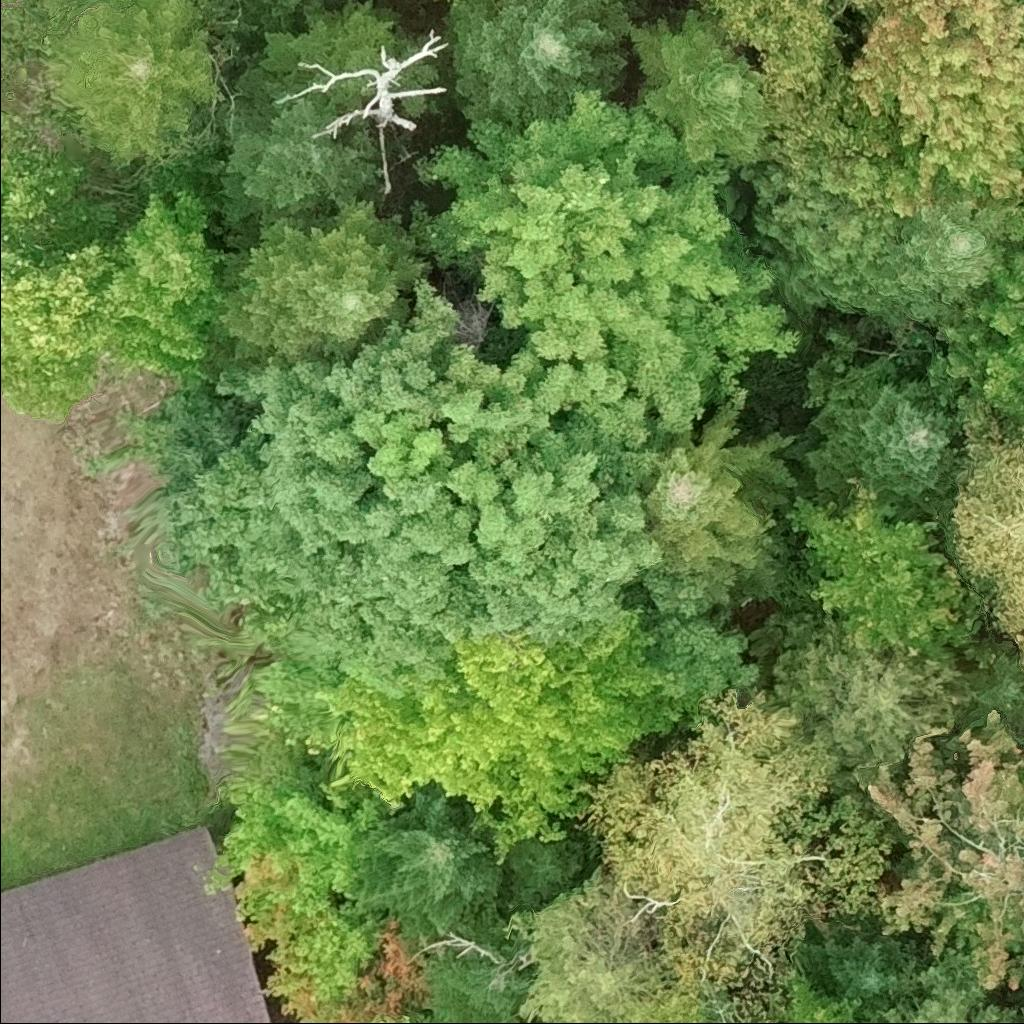crown: (150, 270, 667, 702), (405, 88, 803, 451), (568, 684, 895, 1021), (317, 602, 689, 862), (852, 712, 1023, 993), (751, 602, 978, 803), (203, 781, 390, 1023), (621, 386, 802, 607), (845, 0, 1023, 217), (783, 476, 986, 666), (212, 190, 427, 364), (47, 0, 230, 168), (273, 26, 449, 196), (506, 862, 685, 1023), (812, 367, 959, 562), (93, 183, 233, 375), (352, 785, 513, 941), (739, 161, 902, 314), (443, 0, 632, 127), (630, 0, 770, 168), (217, 88, 377, 225), (0, 236, 114, 424), (866, 189, 1017, 324), (698, 0, 893, 104), (948, 398, 1023, 660), (919, 239, 1023, 425), (235, 0, 427, 100), (0, 107, 120, 257), (645, 954, 881, 1023), (863, 934, 1023, 1023), (424, 907, 532, 1023), (795, 936, 909, 1008), (232, 0, 310, 28), (370, 1009, 432, 1023), (480, 0, 491, 4)
